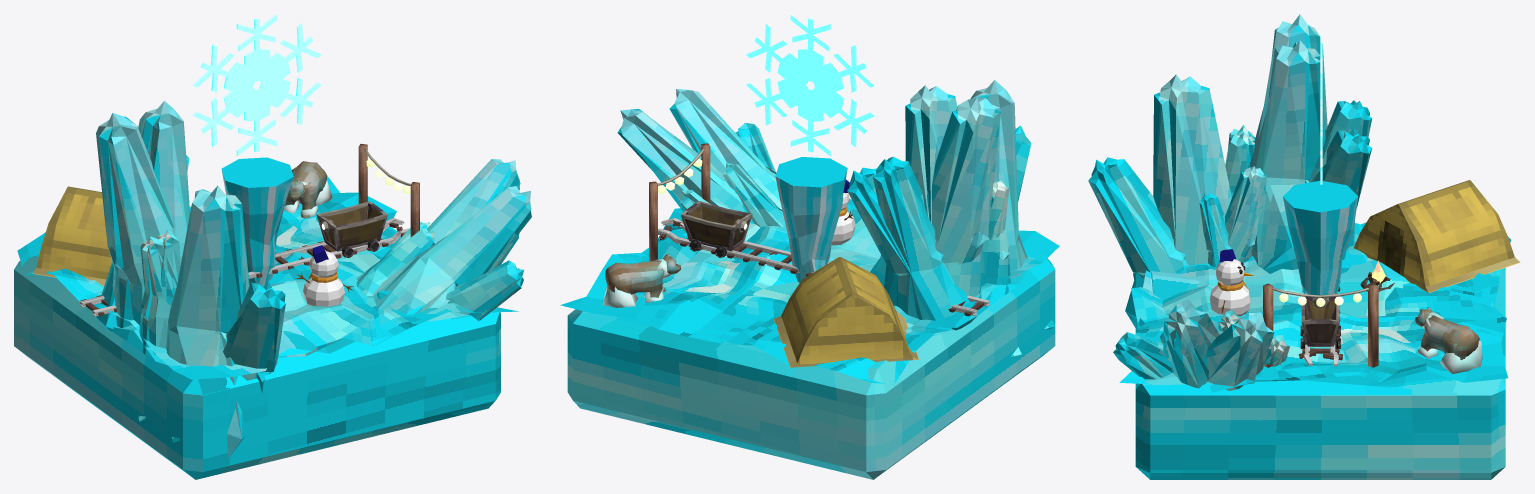
File: dioramaLevel2.gltf
The picture shows the model from 3 angles, left to right: view 1: azimuth 30°, elevation 25°; view 2: azimuth 150°, elevation 25°; view 3: azimuth 270°, elevation 25°; orthographic projection.
Visible parts, largest first — view 1: 立方体.055, IceStick.043, Cube.012, グリッド, Cube.013, IceStick.044, SnowFlake.008, Icicle.006, tent.003, Cube.015, Trolley, 雪だるま.003 (+3 smaller); view 2: 立方体.055, グリッド, Cube.013, IceStick.044, tent.003, SnowFlake.008, Cube.012, Icicle.006, Cube.015, IceStick.043, Ice.004, Trolley (+3 smaller); view 3: 立方体.055, グリッド, IceStick.043, tent.003, IceStick.044, Icicle.006, Cube.013, Cube.015, Cube.012, Cube.014, Ice.004, IlluminationArch.010 (+4 smaller).
Boxes of the visible parts, box(x1,y1,x2,y2) form: 立方体.055: box(14, 206, 500, 479); IceStick.043: box(138, 185, 285, 458); Cube.012: box(356, 186, 531, 320); グリッド: box(17, 175, 518, 379); Cube.013: box(96, 113, 177, 305); IceStick.044: box(96, 101, 189, 354); SnowFlake.008: box(192, 14, 321, 155); Icicle.006: box(221, 157, 293, 285); tent.003: box(32, 186, 112, 285); Cube.015: box(376, 159, 520, 299); Trolley: box(316, 201, 387, 251); 雪だるま.003: box(296, 245, 353, 306); 立方体.055: box(567, 223, 1055, 479); グリッド: box(560, 198, 1059, 383); Cube.013: box(870, 97, 1009, 318); IceStick.044: box(847, 85, 1010, 330); tent.003: box(773, 257, 918, 367); SnowFlake.008: box(746, 14, 875, 156); Cube.012: box(669, 89, 785, 227); Icicle.006: box(775, 157, 847, 282); Cube.015: box(617, 108, 750, 223); IceStick.043: box(970, 80, 1055, 357); Ice.004: box(602, 253, 680, 307); Trolley: box(681, 201, 752, 251); 立方体.055: box(1135, 258, 1505, 479); グリッド: box(1119, 222, 1511, 392); IceStick.043: box(1088, 74, 1231, 327); tent.003: box(1354, 180, 1520, 292); IceStick.044: box(1225, 40, 1372, 207); Icicle.006: box(1283, 180, 1358, 295); Cube.013: box(1225, 14, 1372, 273); Cube.015: box(1163, 312, 1289, 390); Cube.012: box(1113, 299, 1242, 379); Cube.014: box(1199, 166, 1267, 267); Ice.004: box(1415, 307, 1482, 373); IlluminationArch.010: box(1263, 283, 1378, 367).
Size of the model in its own units: 2.49 by 2.18 by 2.34.
19 materials, 18 textured.
